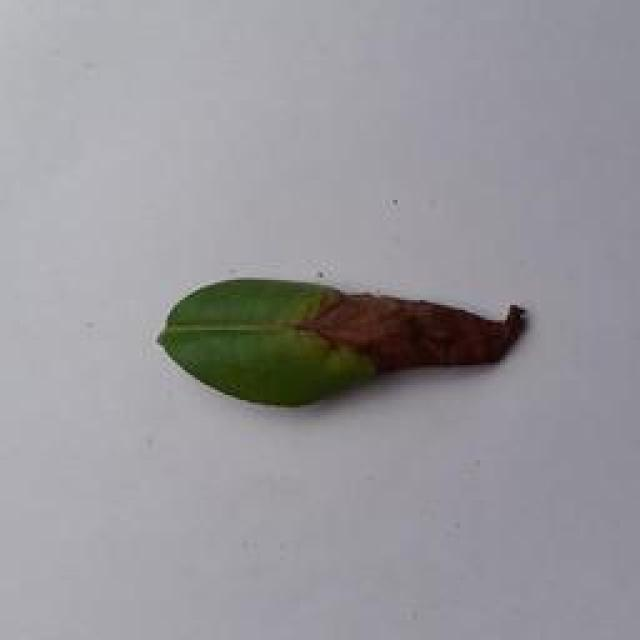Brown Blight: (126, 250, 554, 422)
